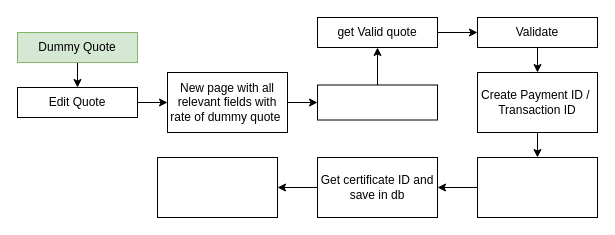
Image size: 615x235. Some labels were removed from this diagram. Each missing label, with the centre of its shape:
"Request to Buy" goes at (x=377, y=102).
"Send confirmation on email" goes at (x=217, y=187).
"Send order confirmation with Transaction ID / Payment ID" goes at (x=537, y=187).
